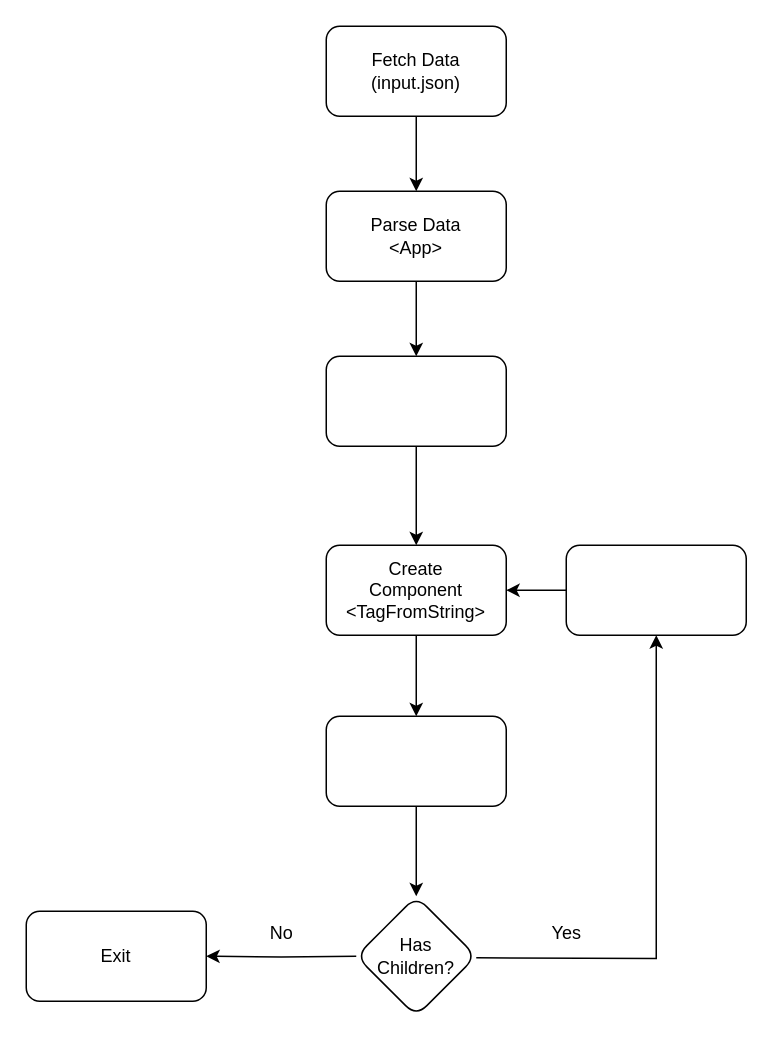
The diagram is 773 pixels wide and 1043 high, and some of its shapes have lost their labels. The shapes that lost their labels are listed below. From the top down, each one's box as (x1, y1, x2, y2) in pixels, then its label:
(325, 355, 506, 446): Render Recursively <RenderChildren>
(565, 544, 746, 635): Render Children <RenderChildren>
(325, 715, 506, 806): Parse and populate Component <StringWithLB>
